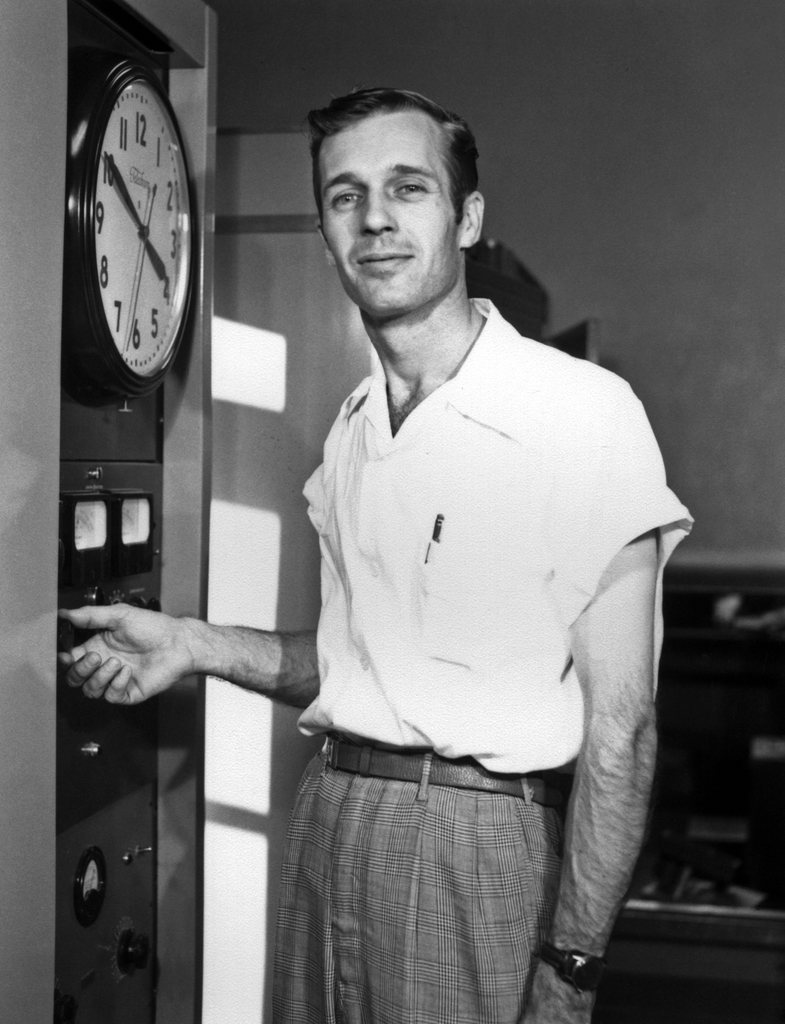watch: (542, 944, 605, 991)
